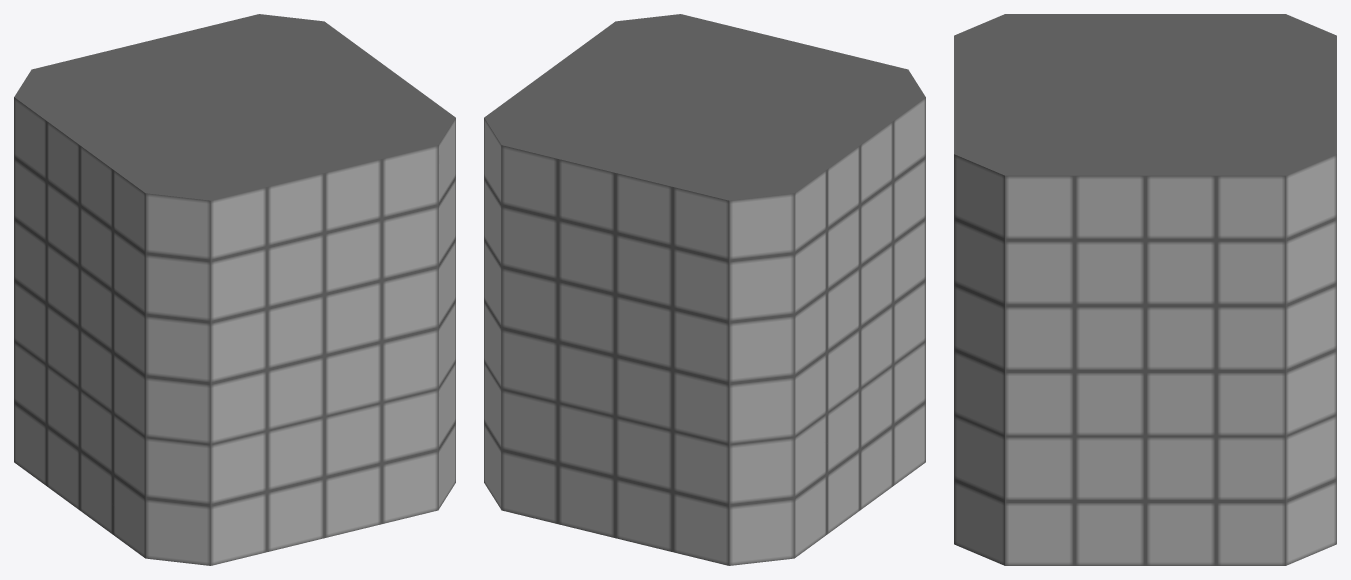
The model's file is SW_ENV_PillarTiledMid_01.fbx.
3 views of the same model, side by side, from view 1: azimuth 30°, elevation 25°; view 2: azimuth 150°, elevation 25°; view 3: azimuth 270°, elevation 25° (orthographic). The views are drawn at different scales.
Visible parts, largest first — view 1: SW_ENV_PillarTiledMid_01; view 2: SW_ENV_PillarTiledMid_01; view 3: SW_ENV_PillarTiledMid_01.
Part boxes in pixels (x1=…): SW_ENV_PillarTiledMid_01: x1=14, y1=14, x2=455, y2=565; SW_ENV_PillarTiledMid_01: x1=484, y1=14, x2=925, y2=565; SW_ENV_PillarTiledMid_01: x1=954, y1=14, x2=1336, y2=565.
Bounding box in the file's own units: 80 × 90 × 80.
